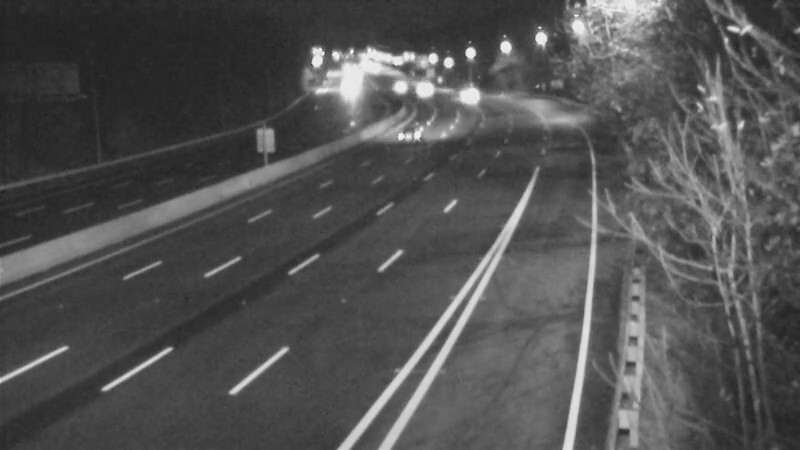vehicle: (367, 59, 417, 109), (398, 67, 448, 117), (440, 69, 490, 119), (381, 111, 431, 161), (322, 64, 372, 114)
